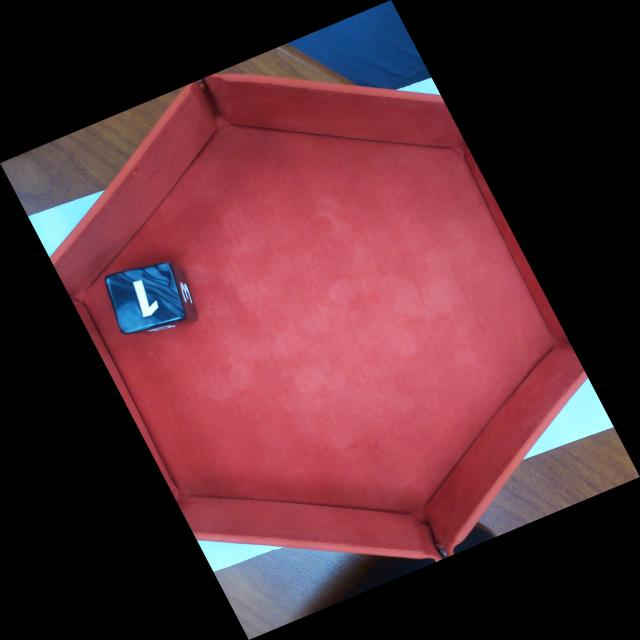dice: (108, 262, 181, 332)
